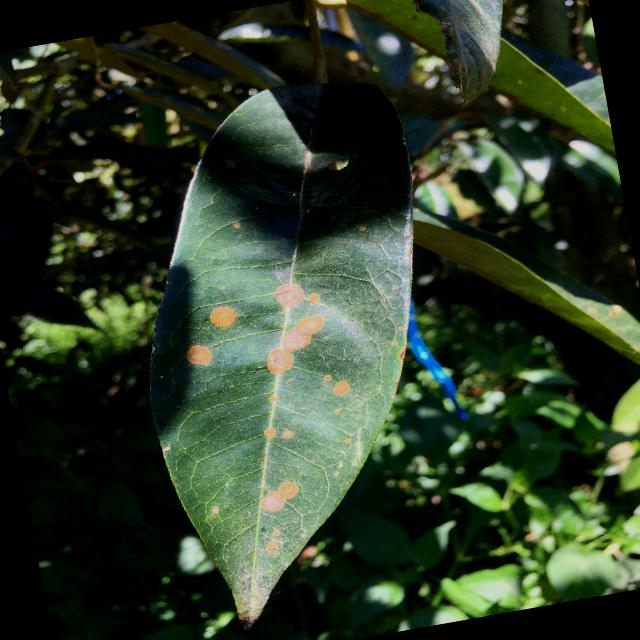Algal Leaf Spot: (82, 44, 501, 639)
